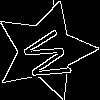W: (20, 25, 81, 85)
